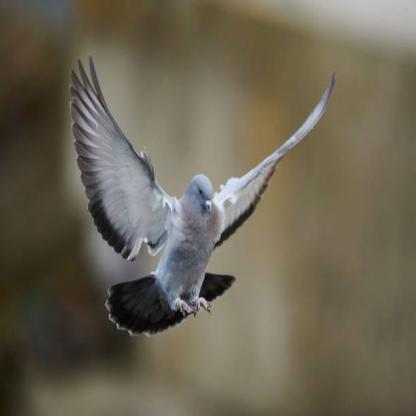Flying Rat: (59, 66, 343, 333)
